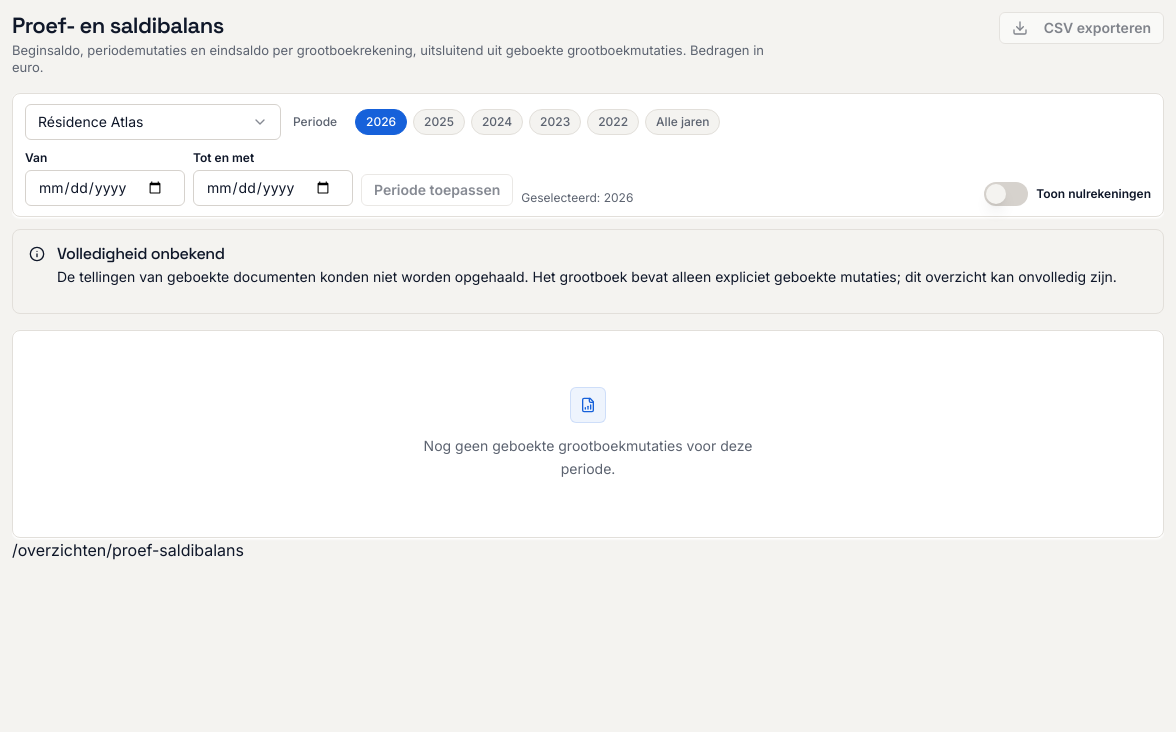
Test: ProefSaldibalans — pagina › P3-3. met 'Toon nulrekeningen' aan wint het rekeningschema van de lege staat
The image size is (1176, 732).
What coordinates should you click on to do the following:
click the switch named "Toon nulrekeningen"
I would click on:
 (1006, 194)
Its box is [984,182,1028,206].
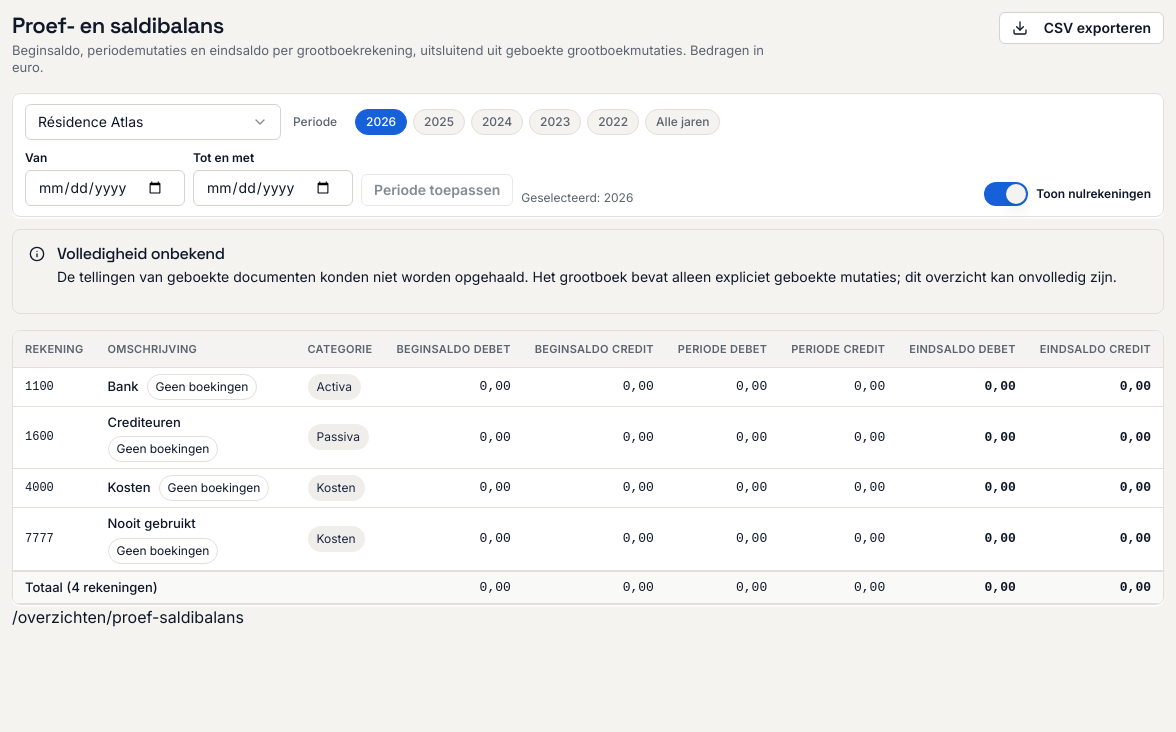
Now the text "Nog geen geboekte grootboekmutaties voor deze periode." is gone
Now the number of rows with test id "psb-row" is 4, box [13,368,1163,406]; [13,406,1163,468]; [13,468,1163,508]; [13,508,1163,570]
Now the button with test id "psb-export" is enabled, box [999,12,1164,44]
